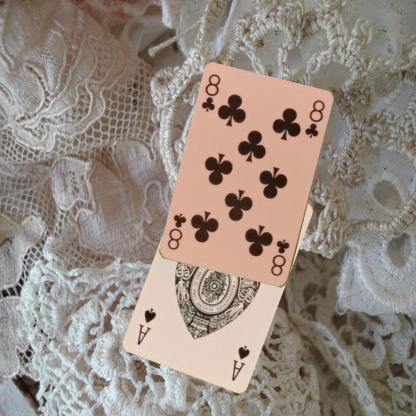8c: (268, 236, 291, 278), (199, 72, 222, 113)
As: (229, 342, 251, 382)
